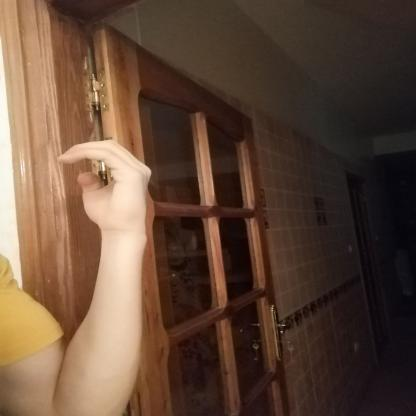JEEM: (44, 130, 164, 243)
